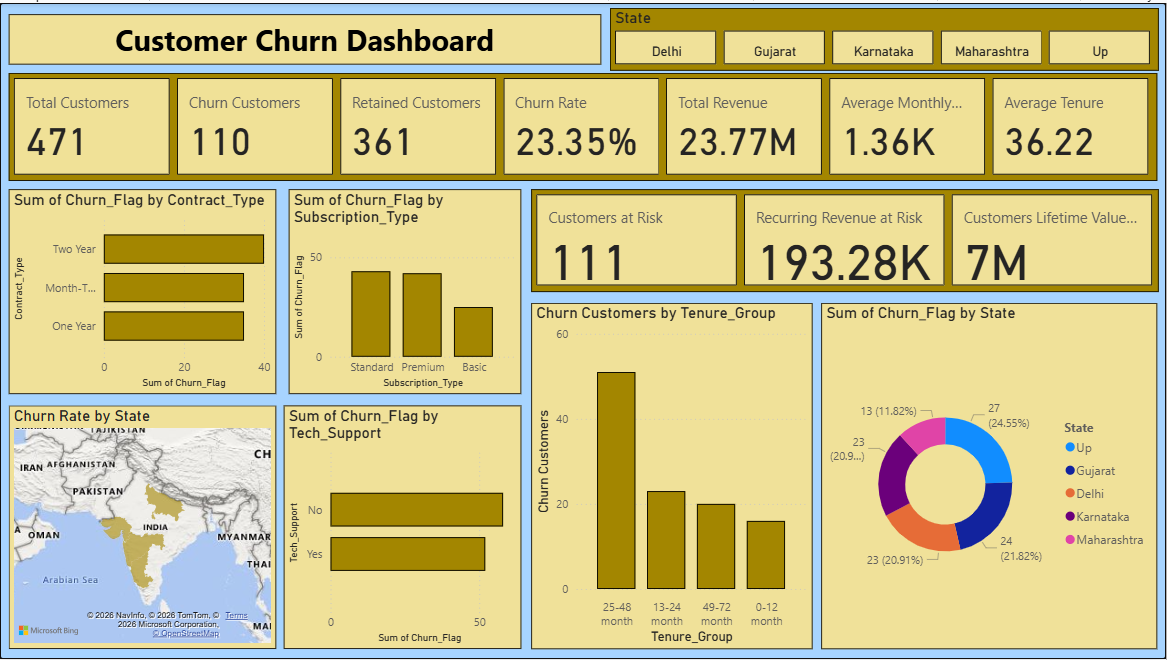

The dashboard page shown, as its layout file describes it:
{"tool":"powerbi","page":{"name":"Page 1","canvas":[1280,720],"ordinal":0},"visuals":[{"type":"textbox","box":[9.6,12.3,650.4,54.9],"z":0},{"type":"cardVisual","fields":{"Data":["DAX Measures.Total Customers","DAX Measures.Churn Customers","DAX Measures.Retained Customers","DAX Measures.Churn Rate","DAX Measures.Total Revenue","DAX Measures.Average Monthly Charges","DAX Measures.Average Tenure"]},"box":[9.6,76.8,1261.1,118],"z":1000},{"type":"clusteredBarChart","fields":{"Category":["Clean_Churn_Data.Contract_Type"],"Y":["Sum(Clean_Churn_Data.Churn_Flag)"]},"box":[9.6,204.5,293.7,225],"z":2000},{"type":"clusteredColumnChart","fields":{"Category":["Clean_Churn_Data.Subscription_Type"],"Y":["Sum(Clean_Churn_Data.Churn_Flag)"]},"box":[317,204.5,255.2,225],"z":3000},{"type":"filledMap","fields":{"Category":["Clean_Churn_Data.State"]},"box":[9.6,441.9,293.7,267.6],"z":4000},{"type":"donutChart","fields":{"Category":["Clean_Churn_Data.State"],"Y":["Sum(Clean_Churn_Data.Churn_Flag)"]},"box":[901.5,329.3,369.1,380.1],"z":5000},{"type":"advancedSlicerVisual","fields":{"Values":["Clean_Churn_Data.State"]},"box":[669.6,5.5,602.4,68.6],"z":6000},{"type":"clusteredColumnChart","fields":{"Category":["Clean_Churn_Data.Tenure_Group"],"Y":["DAX Measures.Churn Customers"]},"box":[583.2,329.3,308.7,380.1],"z":7000},{"type":"clusteredBarChart","fields":{"Category":["Clean_Churn_Data.Tech_Support"],"Y":["Sum(Clean_Churn_Data.Churn_Flag)"]},"box":[311.5,441.9,260.7,267.6],"z":8000},{"type":"cardVisual","fields":{"Data":["DAX Measures.Customers at Risk","DAX Measures.Recurring Revenue at Risk","DAX Measures.Customers  Lifetime Value at Risk"]},"box":[583.2,204.5,688.9,112.5],"z":9000}]}

Visuals, with their boxes in screenshot pixels (x1, y1, x2, y2), scaled from the page's 1280x720 canvas onto the 1167x660 screenshot:
textbox: 9/11/602/62
cardVisual - DAX Measures.Total Customers x DAX Measures.Churn Customers: 9/70/1159/179
clusteredBarChart - Clean_Churn_Data.Contract_Type x Sum(Clean_Churn_Data.Churn_Flag): 9/187/277/394
clusteredColumnChart - Clean_Churn_Data.Subscription_Type x Sum(Clean_Churn_Data.Churn_Flag): 289/187/522/394
filledMap - Clean_Churn_Data.State: 9/405/277/650
donutChart - Clean_Churn_Data.State x Sum(Clean_Churn_Data.Churn_Flag): 822/302/1158/650
advancedSlicerVisual - Clean_Churn_Data.State: 610/5/1160/68
clusteredColumnChart - Clean_Churn_Data.Tenure_Group x DAX Measures.Churn Customers: 532/302/813/650
clusteredBarChart - Clean_Churn_Data.Tech_Support x Sum(Clean_Churn_Data.Churn_Flag): 284/405/522/650
cardVisual - DAX Measures.Customers at Risk x DAX Measures.Recurring Revenue at Risk: 532/187/1160/291
